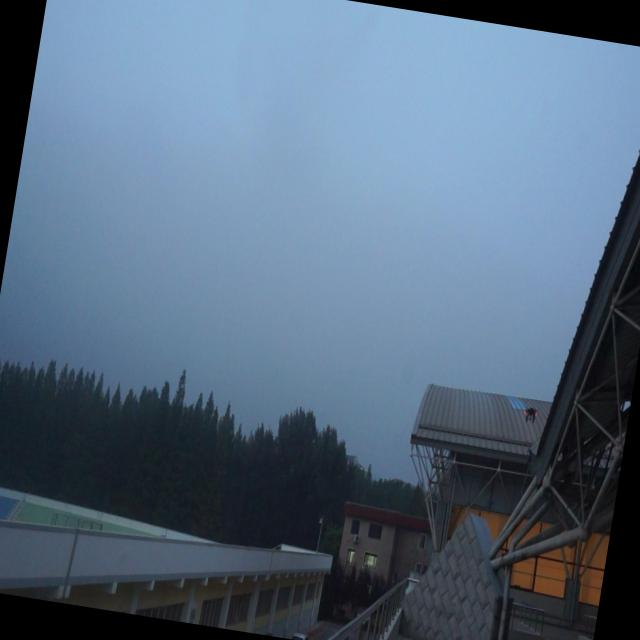drone: (520, 402, 542, 428)
